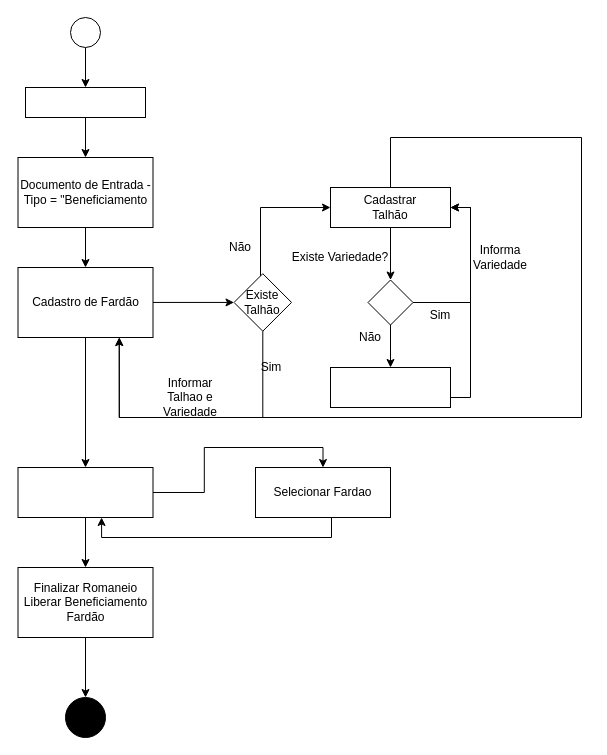
Some shapes in this 607 by 755 pixel diagram are drawn without their labels. The centre of each missing label's shape, as x and y in pixels:
Cadastrar Variedade: pixel 390 387
Nota Fiscal: pixel 85 102
Romaneio de Entrada: pixel 85 492
